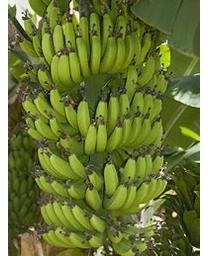banana: (16, 0, 173, 254)
